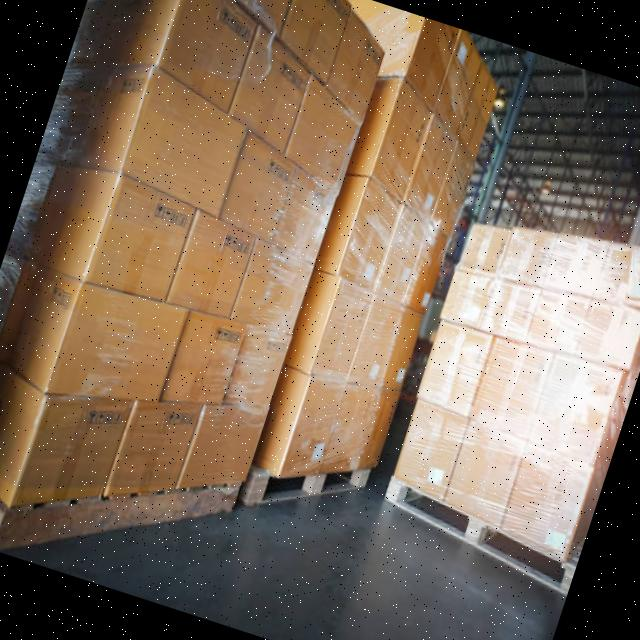Wooden-Pallets: (373, 461, 578, 605), (246, 453, 381, 515)
